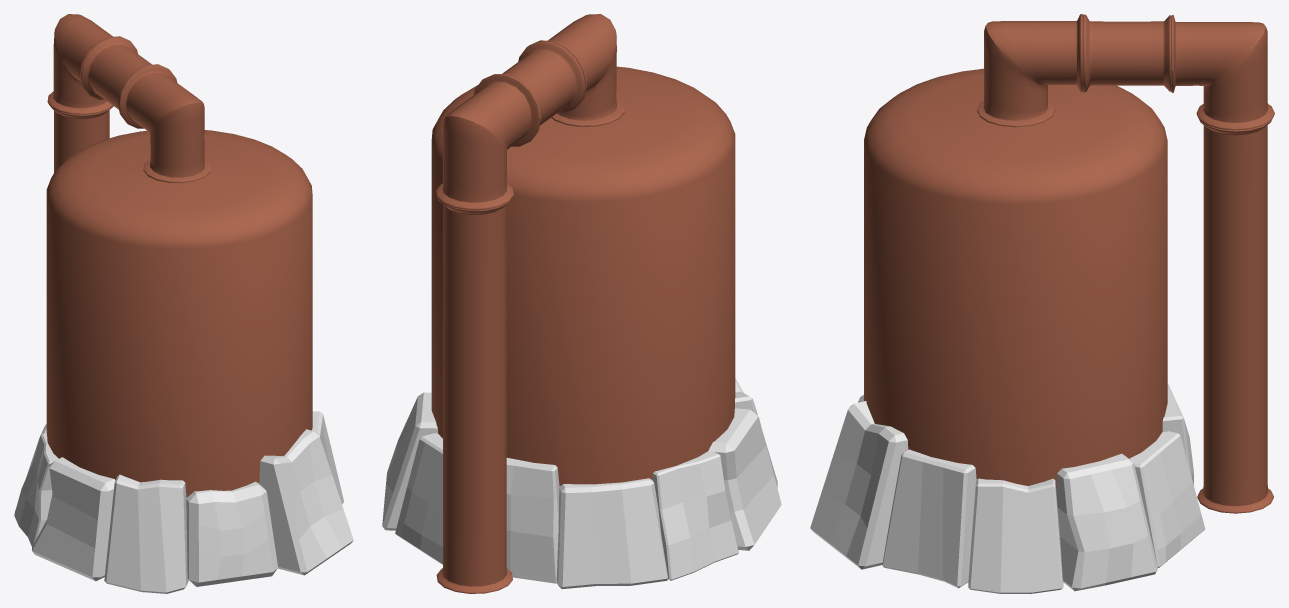
File: Cisterna.fbx
3 views of the same model, side by side, from view 1: azimuth 30°, elevation 25°; view 2: azimuth 150°, elevation 25°; view 3: azimuth 270°, elevation 25° (orthographic). The views are drawn at different scales.
Visible parts, largest first — view 1: Cisterna, Куб.025, Куб.026, Куб.027, Truba1, Куб.031, truba3, Truba2, Куб.030, Truba4, Куб.023; view 2: Cisterna, Truba4, Куб.028, truba3, Куб.030, Куб.029, Куб.031, Truba1, Куб.032, Truba2, Куб.024; view 3: Cisterna, Truba4, Куб.024, Куб.025, Куб.023, Куб.022, truba3, Truba1, Куб.032, Truba2, Куб.029.
Boxes of the visible parts, bbox=[...] form: Cisterna: bbox=[46, 130, 312, 497]; Куб.025: bbox=[259, 429, 353, 575]; Куб.026: bbox=[104, 474, 188, 593]; Куб.027: bbox=[186, 481, 277, 586]; Truba1: bbox=[118, 65, 211, 183]; Куб.031: bbox=[32, 457, 115, 581]; truba3: bbox=[47, 14, 136, 114]; Truba2: bbox=[80, 37, 166, 114]; Куб.030: bbox=[14, 433, 58, 546]; Truba4: bbox=[49, 104, 113, 172]; Куб.023: bbox=[312, 411, 344, 504]; Cisterna: bbox=[431, 66, 735, 485]; Truba4: bbox=[436, 197, 512, 593]; Куб.028: bbox=[556, 478, 667, 588]; truba3: bbox=[436, 74, 540, 210]; Куб.030: bbox=[652, 451, 738, 580]; Куб.029: bbox=[506, 457, 559, 583]; Куб.031: bbox=[708, 408, 781, 550]; Truba1: bbox=[529, 14, 624, 126]; Куб.032: bbox=[395, 433, 442, 564]; Truba2: bbox=[495, 41, 585, 129]; Куб.024: bbox=[382, 392, 437, 530]; Cisterna: bbox=[864, 68, 1167, 488]; Truba4: bbox=[1197, 116, 1273, 513]; Куб.024: bbox=[1056, 453, 1157, 591]; Куб.025: bbox=[810, 401, 908, 569]; Куб.023: bbox=[882, 449, 976, 588]; Куб.022: bbox=[968, 478, 1063, 593]; truba3: bbox=[1171, 15, 1274, 130]; Truba1: bbox=[977, 14, 1082, 127]; Куб.032: bbox=[1129, 431, 1205, 567]; Truba2: bbox=[1083, 14, 1171, 92]; Куб.029: bbox=[1162, 384, 1193, 485].
Bounding box in the file's own units: 822 × 1143 × 976.
